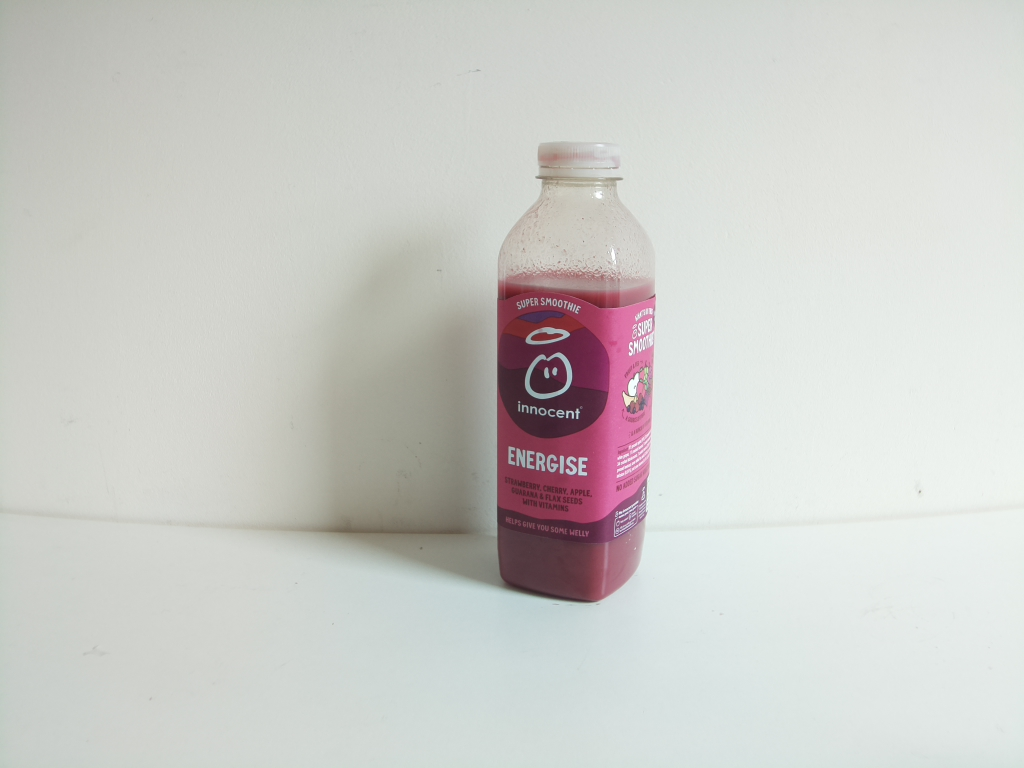juice: (498, 140, 661, 612)
